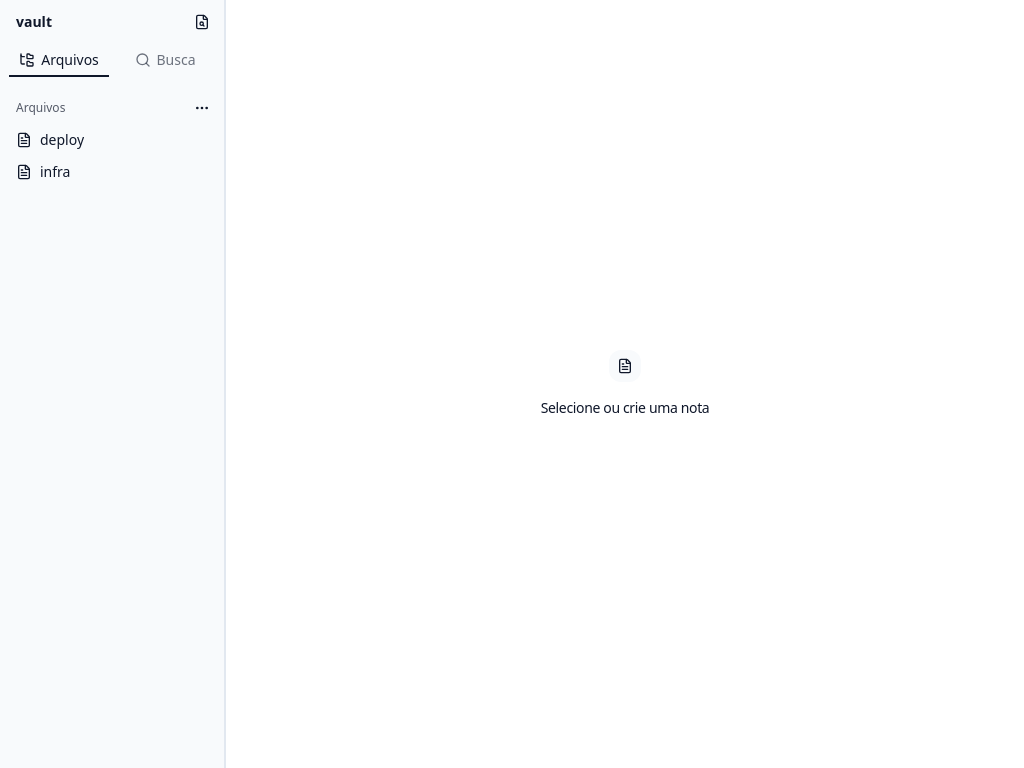
Scenario: painel de backlinks no workspace › o botão do cabeçalho do editor alterna o painel
Expected: the navigation bar named "Arquivos do vault" is shown, [8,124,216,188]
Click the button "deploy" at (112,140), box [8,124,216,156]
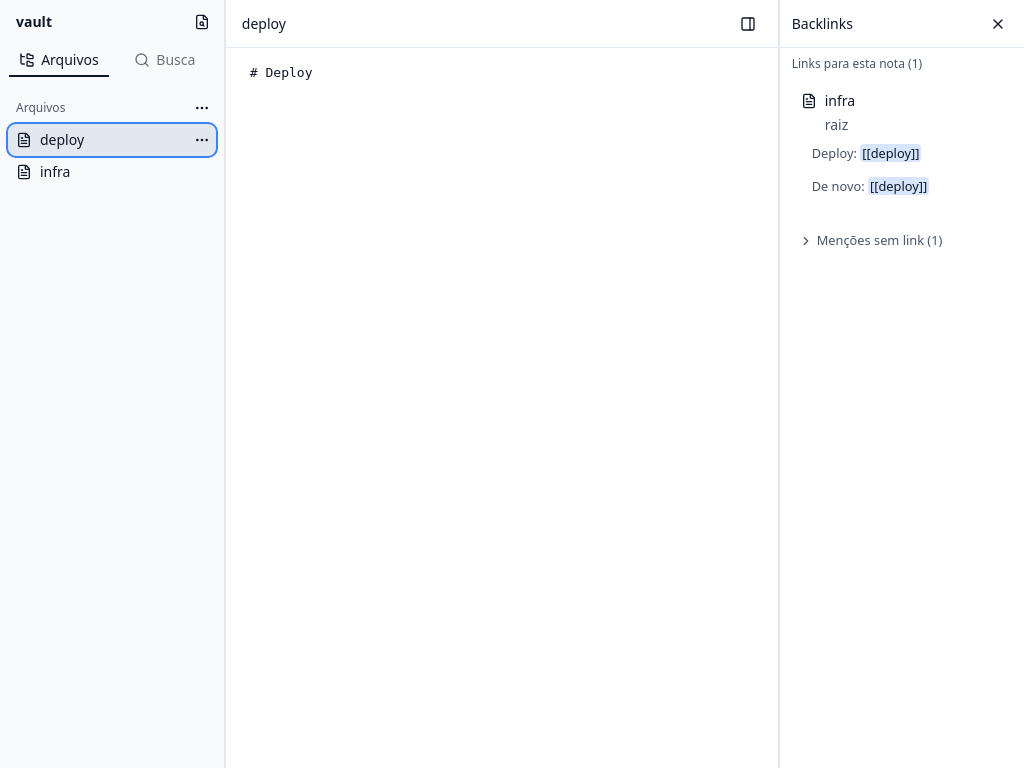
Result: the element "deploy" is shown at [226,0,778,767]
Click the 1st button named "Esconder backlinks" at (748,24), box [734,10,762,38]
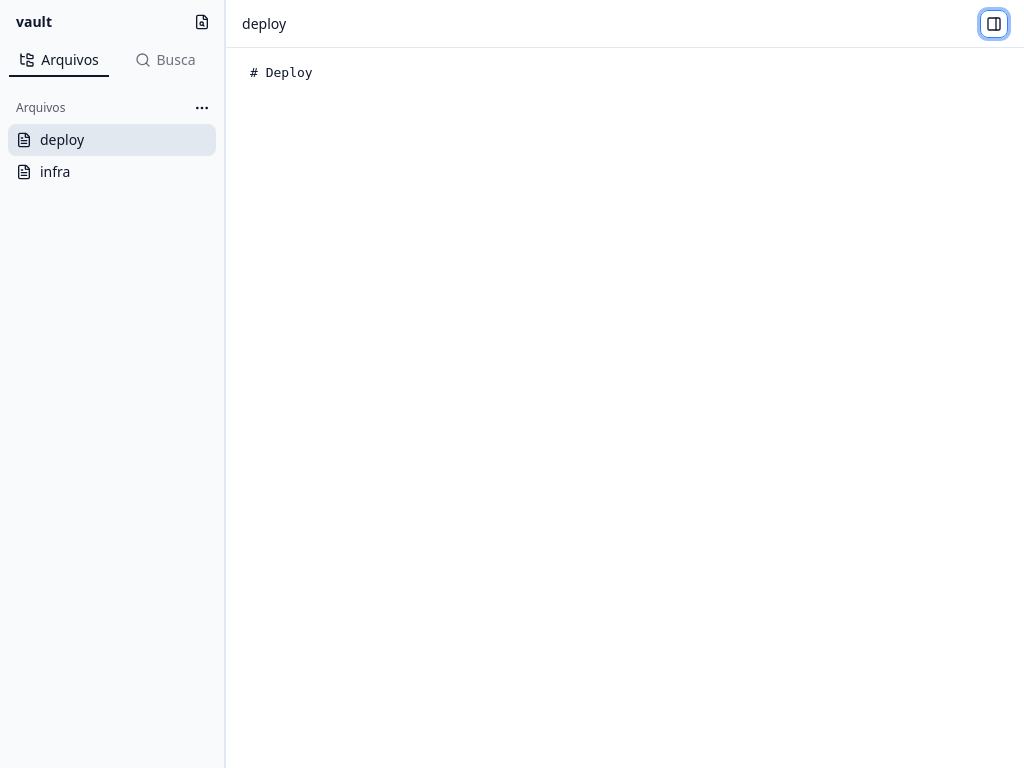
Result: the heading "Backlinks" is gone
Click the button named "Mostrar backlinks" at (994,24), box [980,10,1008,38]
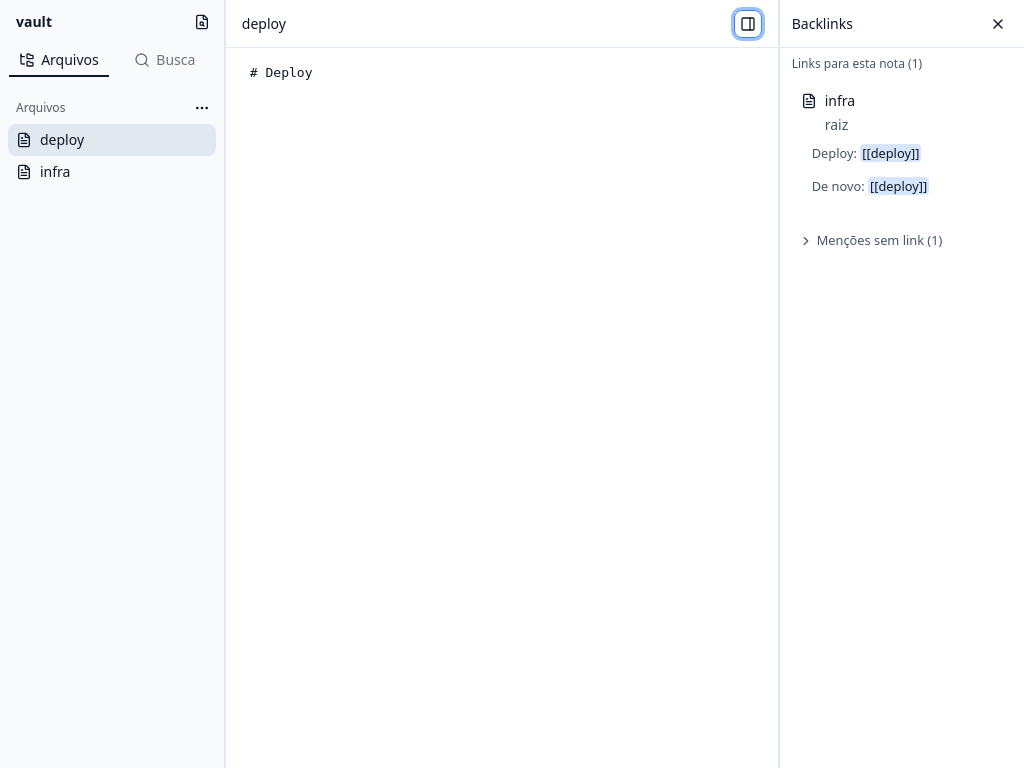
Result: the element "Backlinks" is shown at [780,0,1023,767]
